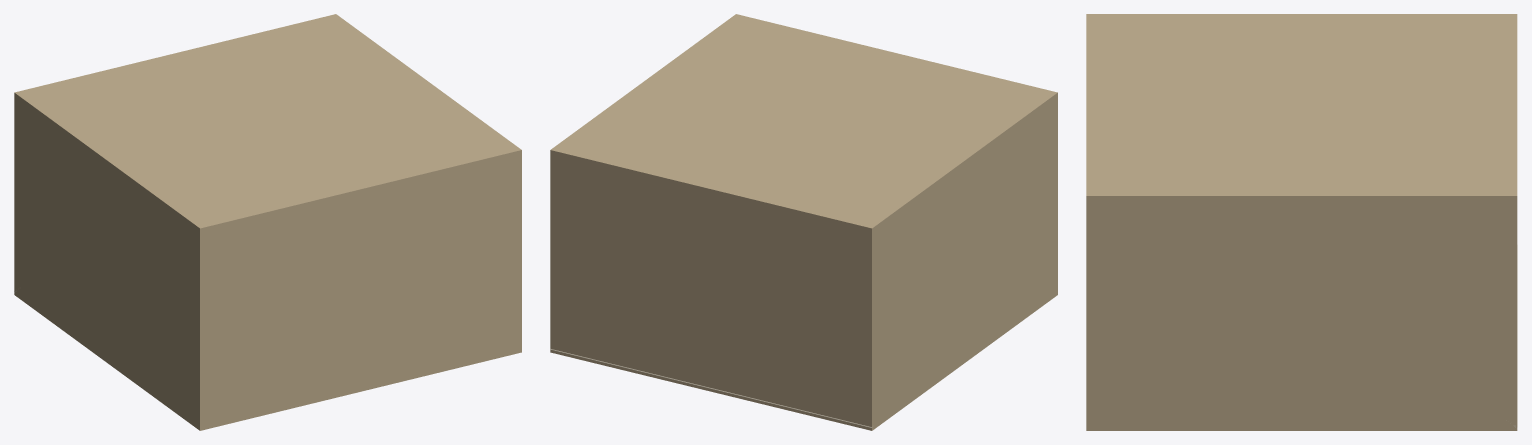
3 renders of one model, left to right at view 1: azimuth 30°, elevation 25°; view 2: azimuth 150°, elevation 25°; view 3: azimuth 270°, elevation 25°, orthographic. The views are drawn at different scales.
Parts seen in each view (by area): view 1: Pyramid Exterior (core masonry); view 2: Pyramid Exterior (core masonry), Casing Stones (north face, lower courses); view 3: Pyramid Exterior (core masonry).
Part boxes in pixels (x1=…): Pyramid Exterior (core masonry): x1=14, y1=14, x2=521, y2=430; Pyramid Exterior (core masonry): x1=550, y1=14, x2=1057, y2=430; Casing Stones (north face, lower courses): x1=550, y1=349, x2=872, y2=427; Pyramid Exterior (core masonry): x1=1086, y1=14, x2=1517, y2=430.
Size of what is drawn, in the model's own units: 230 by 174 by 231.
